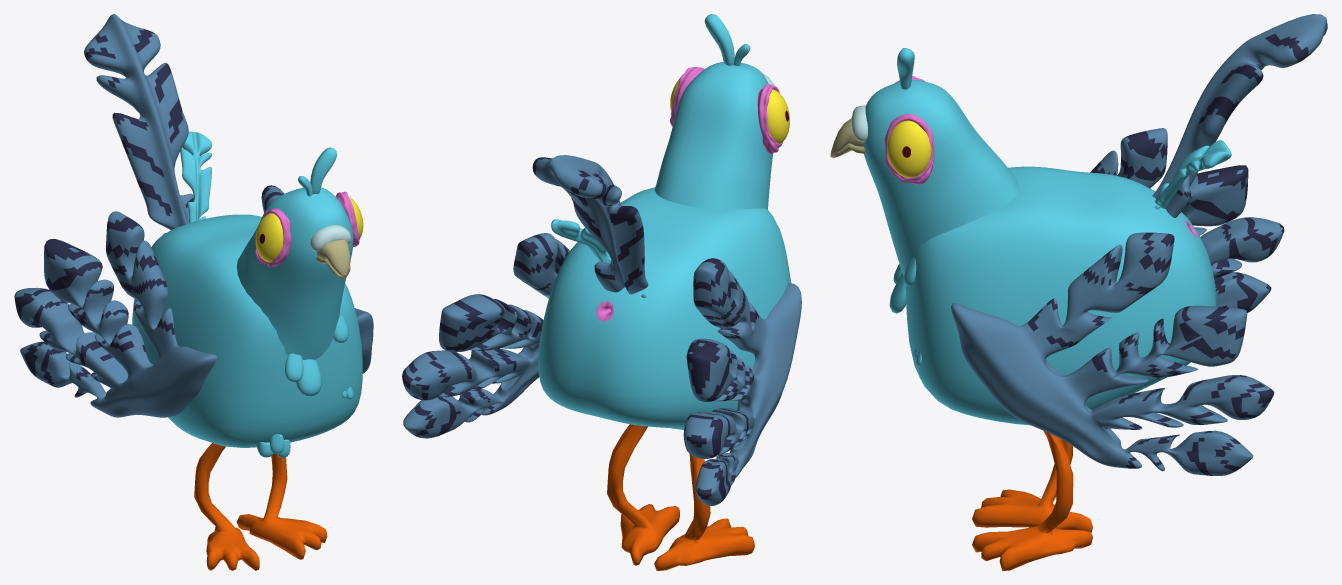
The model's file is scene.gltf.glb.
3 renders of one model, left to right at view 1: azimuth 30°, elevation 25°; view 2: azimuth 150°, elevation 25°; view 3: azimuth 270°, elevation 25°, orthographic. The views are drawn at different scales.
Visible parts, largest first — view 1: Körper, Cube.004, Schwanzfeder 1, Hals, Fuß, Fuß.001, Schwanzfeder 2, Augapfel, Cube.003, Taube.001, Cube, Auge (+4 smaller); view 2: Körper, Cube.004, Cube.003, Hals, Schwanzfeder 1, Fuß, Fuß.001, Schwanzfeder 2, Augapfel, Kopffeder 1, Auge, Auge.001; view 3: Körper, Cube.003, Hals, Cube.004, Schwanzfeder 1, Fuß, Fuß.001, Augapfel.001, Schwanzfeder 2, Auge.001.
Part boxes in pixels (bbox=[...]): Körper: bbox=[132, 214, 362, 457]; Cube.004: bbox=[14, 211, 216, 417]; Schwanzfeder 1: bbox=[84, 14, 193, 235]; Hals: bbox=[236, 187, 353, 359]; Fuß: bbox=[236, 453, 327, 559]; Fuß.001: bbox=[194, 443, 259, 570]; Schwanzfeder 2: bbox=[180, 131, 211, 222]; Augapfel: bbox=[255, 213, 283, 262]; Cube.003: bbox=[261, 185, 373, 373]; Taube.001: bbox=[316, 239, 350, 277]; Cube: bbox=[296, 359, 321, 396]; Auge: bbox=[255, 208, 291, 267]; Körper: bbox=[538, 187, 791, 429]; Cube.004: bbox=[683, 258, 801, 505]; Cube.003: bbox=[402, 233, 569, 438]; Hals: bbox=[654, 62, 772, 209]; Schwanzfeder 1: bbox=[532, 155, 648, 297]; Fuß: bbox=[607, 424, 679, 565]; Fuß.001: bbox=[654, 454, 754, 570]; Schwanzfeder 2: bbox=[551, 219, 611, 263]; Augapfel: bbox=[767, 89, 789, 143]; Kopffeder 1: bbox=[704, 14, 734, 65]; Auge: bbox=[757, 84, 782, 153]; Auge.001: bbox=[670, 67, 704, 126]; Körper: bbox=[905, 166, 1216, 425]; Cube.003: bbox=[951, 232, 1274, 475]; Hals: bbox=[864, 79, 1018, 276]; Cube.004: bbox=[1090, 128, 1284, 312]; Schwanzfeder 1: bbox=[1152, 14, 1327, 217]; Fuß: bbox=[972, 431, 1092, 570]; Fuß.001: bbox=[972, 440, 1092, 532]; Augapfel.001: bbox=[887, 120, 931, 177]; Schwanzfeder 2: bbox=[1155, 140, 1231, 209]; Auge.001: bbox=[884, 114, 934, 184].
Size of the model in its own units: 4.89 by 7.2 by 6.29.
